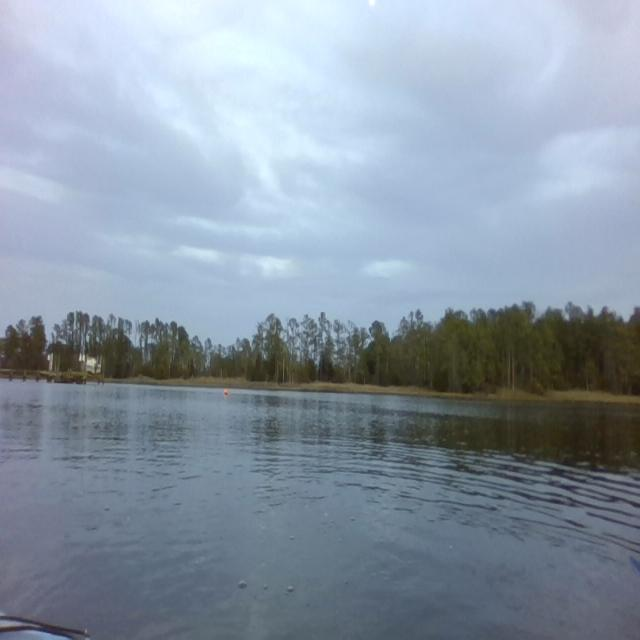Buoy: (222, 386, 228, 397)
